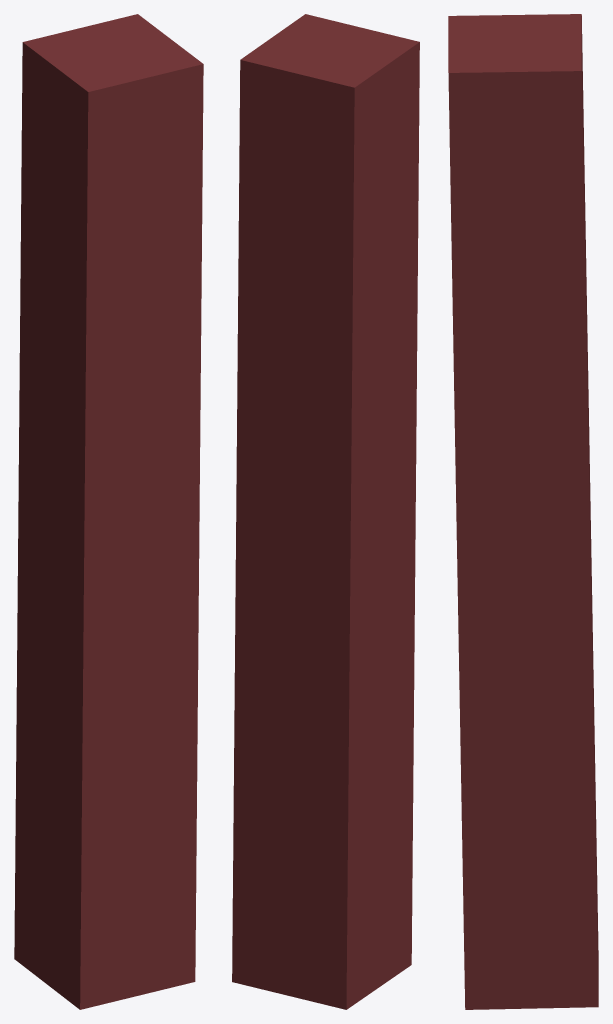
Rendered from Lever.fbx.
3 renders of one model, left to right at view 1: azimuth 30°, elevation 25°; view 2: azimuth 150°, elevation 25°; view 3: azimuth 270°, elevation 25°, orthographic. The views are drawn at different scales.
Visible parts, largest first — view 1: lever; view 2: lever; view 3: lever.
Boxes of the visible parts, left/top/right/bottom form: lever: left=14, top=14, right=203, bottom=1009; lever: left=232, top=14, right=419, bottom=1009; lever: left=448, top=14, right=598, bottom=1009.
Bounding box in the file's own units: 12.69 × 97.39 × 14.1.
